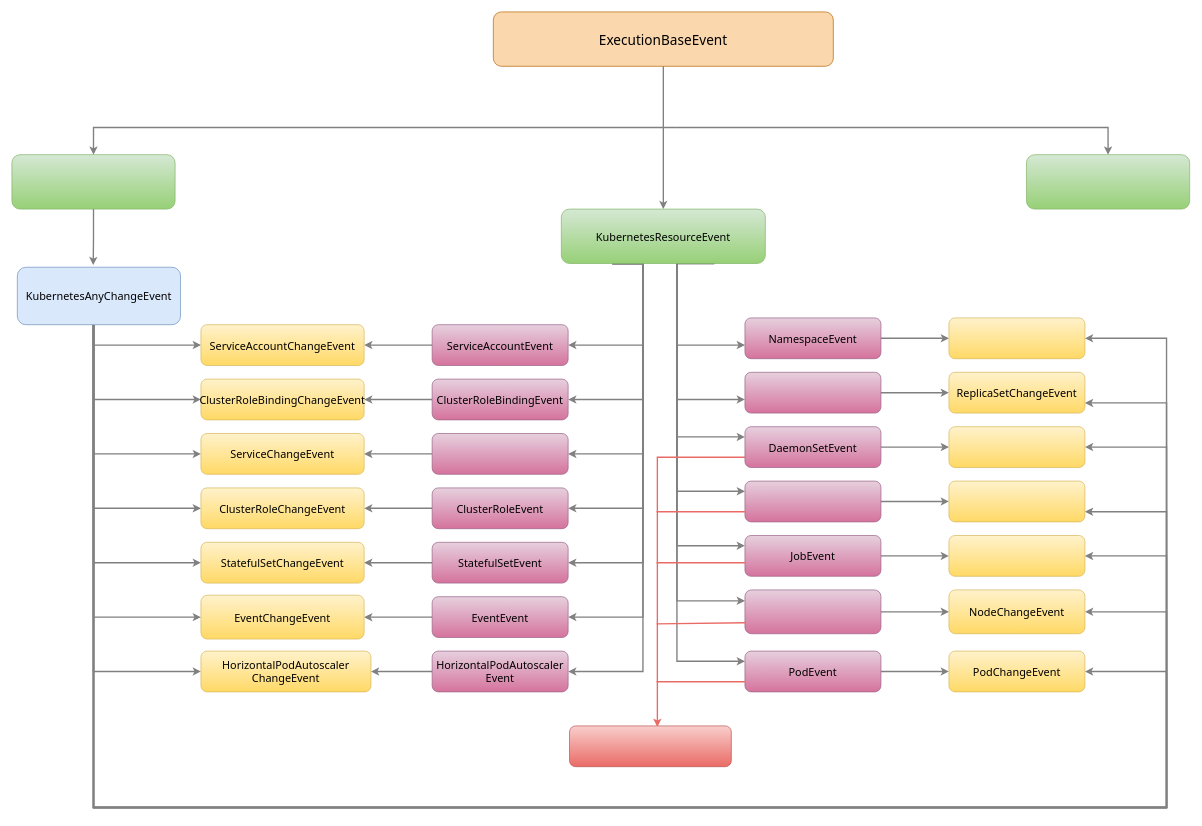
Image size: 1202x826. Some labels were removed from this diagram. The centre of each missing label's shape, as x and y in pixels:
"DaemonSetChangeEvent" belongs at [1016,447].
"DeploymentChangeEvent" belongs at [1016,501].
"DeploymentEvent" belongs at [812,501].
"JobChangeEvent" belongs at [1016,555].
"K8sBaseChangeEvent" belongs at [93,181].
"NamespaceChangeEvent" belongs at [1016,338].
"NodeEvent" belongs at [812,611].
"PrometheusKubernetesAlert" belongs at [650,746].
"ReplicaSetEvent" belongs at [812,392].
"ScheduledExecutionEvent" belongs at [1108,181].
"ServiceEvent" belongs at [499,453].
